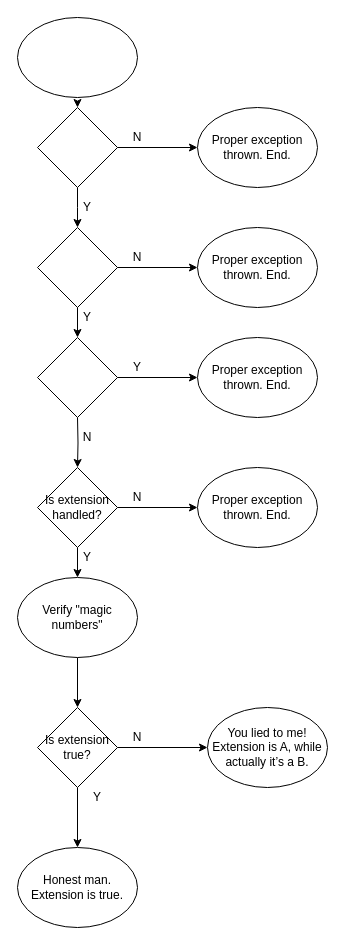
Some shapes in this 345 by 945 pixel diagram are drawn without their labels. Here are the shapes that lost their labels. From the top down, the box of each, then its label:
(16, 16, 138, 98): Send file
(36, 106, 118, 188): Can file be found?
(36, 226, 118, 308): Can file be opened?
(36, 336, 118, 418): File too short to read anything?
